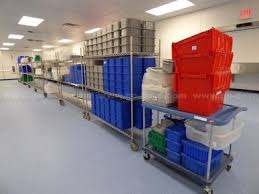Carts: (85, 36, 142, 151), (58, 59, 87, 118), (42, 61, 60, 99), (22, 59, 38, 94)
